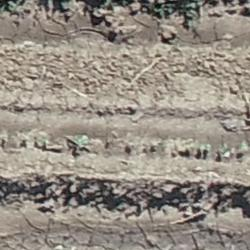cotton: (78, 136, 87, 144), (240, 144, 246, 149), (205, 145, 211, 149), (42, 138, 47, 142)
